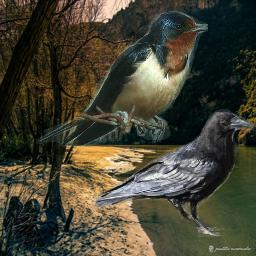Crow: (92, 109, 254, 237)
Swallow: (36, 11, 208, 147)
